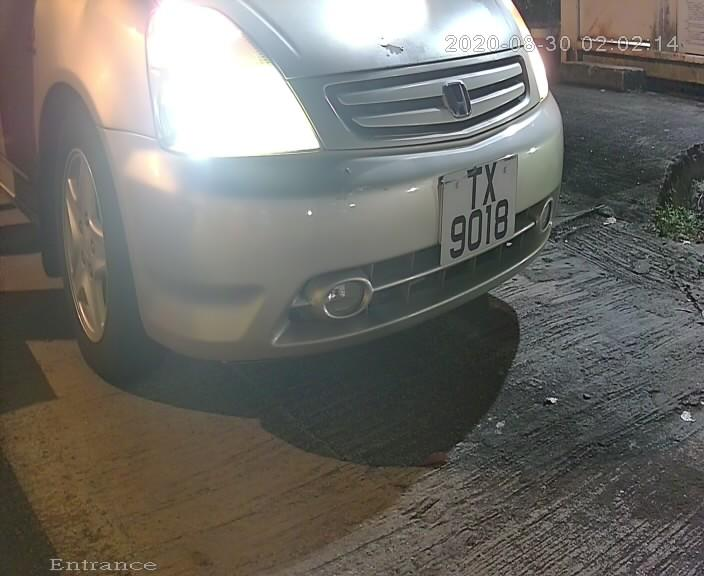License Plate: (431, 142, 522, 278)
